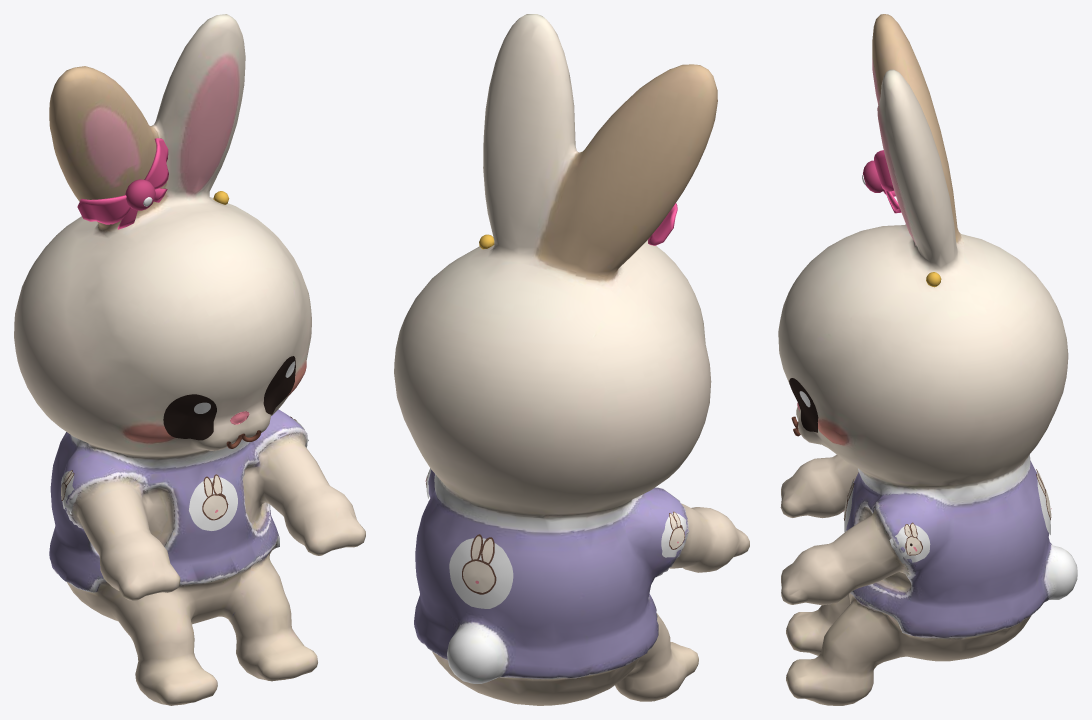
The model's file is rabbit.glb.
3 renders of one model, left to right at view 1: azimuth 30°, elevation 25°; view 2: azimuth 150°, elevation 25°; view 3: azimuth 270°, elevation 25°, orthographic. The views are drawn at different scales.
Parts seen in each view (by area): view 1: chibi, face; view 2: chibi, face; view 3: chibi, face.
Part boxes in pixels (x1,y1,x2,y2): chibi: (14, 14, 365, 705); face: (61, 138, 307, 530); chibi: (394, 14, 749, 705); face: (425, 203, 688, 608); chibi: (778, 14, 1077, 705); face: (789, 150, 1051, 563).
Bounding box in the file's own units: 0.6824 × 1.59 × 0.6975.
Materials: 29 (1 with a texture image).
